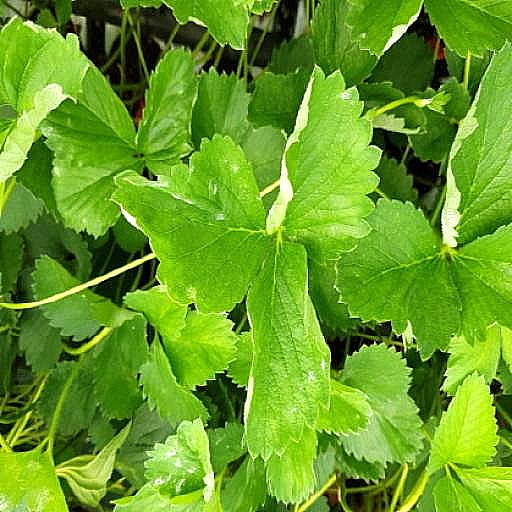Powdery Mildew Leaf: (109, 196, 276, 380), (264, 243, 384, 449), (239, 49, 332, 273), (41, 272, 146, 449), (441, 262, 511, 472), (142, 9, 216, 97), (342, 453, 425, 511)
